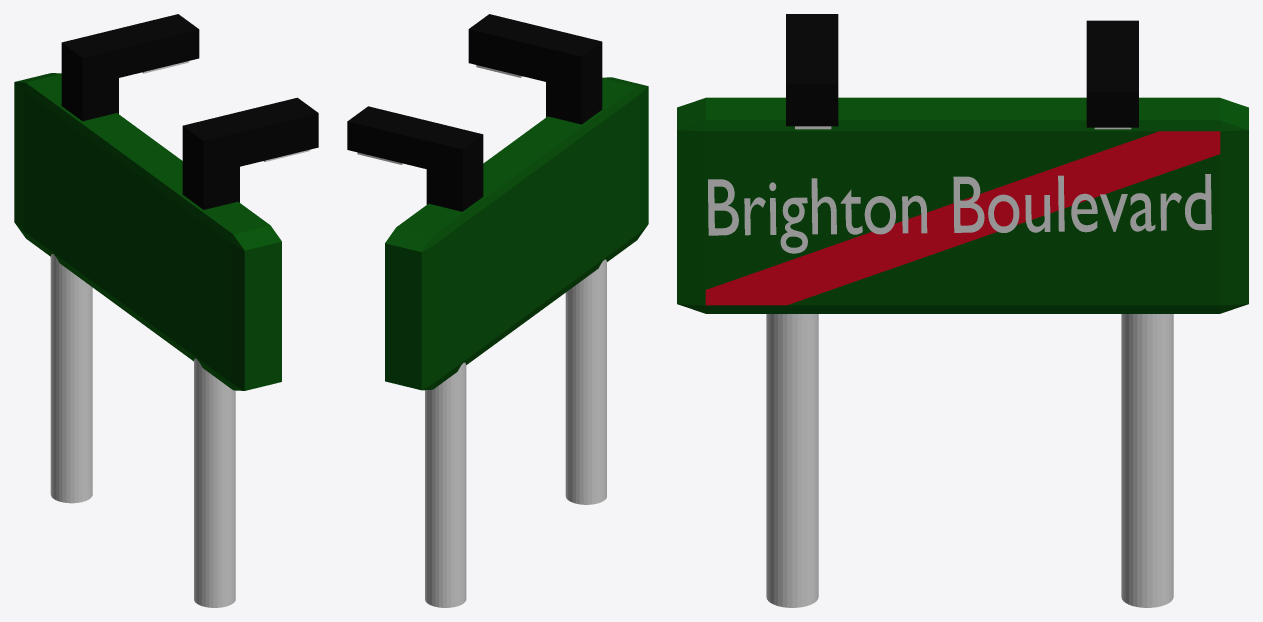
File: UK_road_end_1.fbx
3 renders of one model, left to right at view 1: azimuth 30°, elevation 25°; view 2: azimuth 150°, elevation 25°; view 3: azimuth 270°, elevation 25°, orthographic. The views are drawn at different scales.
Visible parts, largest first — view 1: Cube, Cylinder.001, Cylinder, Cube.001, Cube.002; view 2: Cube, Cylinder.001, Cylinder, Cube.001, Cube.002; view 3: Cube, Cylinder, Cylinder.001, Text, Cube.001, Cube.002.
Part boxes in pixels (x1,y1,x2,y2): Cube: [14, 73, 281, 390]; Cylinder.001: [50, 254, 92, 503]; Cylinder: [194, 358, 235, 607]; Cube.001: [182, 97, 318, 209]; Cube.002: [61, 14, 199, 121]; Cube: [385, 77, 648, 390]; Cylinder.001: [425, 362, 466, 607]; Cylinder: [565, 259, 606, 504]; Cube.001: [468, 14, 602, 124]; Cube.002: [347, 106, 483, 211]; Cube: [677, 97, 1248, 313]; Cylinder: [766, 314, 818, 607]; Cylinder.001: [1121, 314, 1173, 607]; Text: [708, 174, 1211, 253]; Cube.001: [786, 14, 838, 126]; Cube.002: [1086, 20, 1138, 127].
Size of the model in its own units: 6.69 by 24.3 by 21.91.
